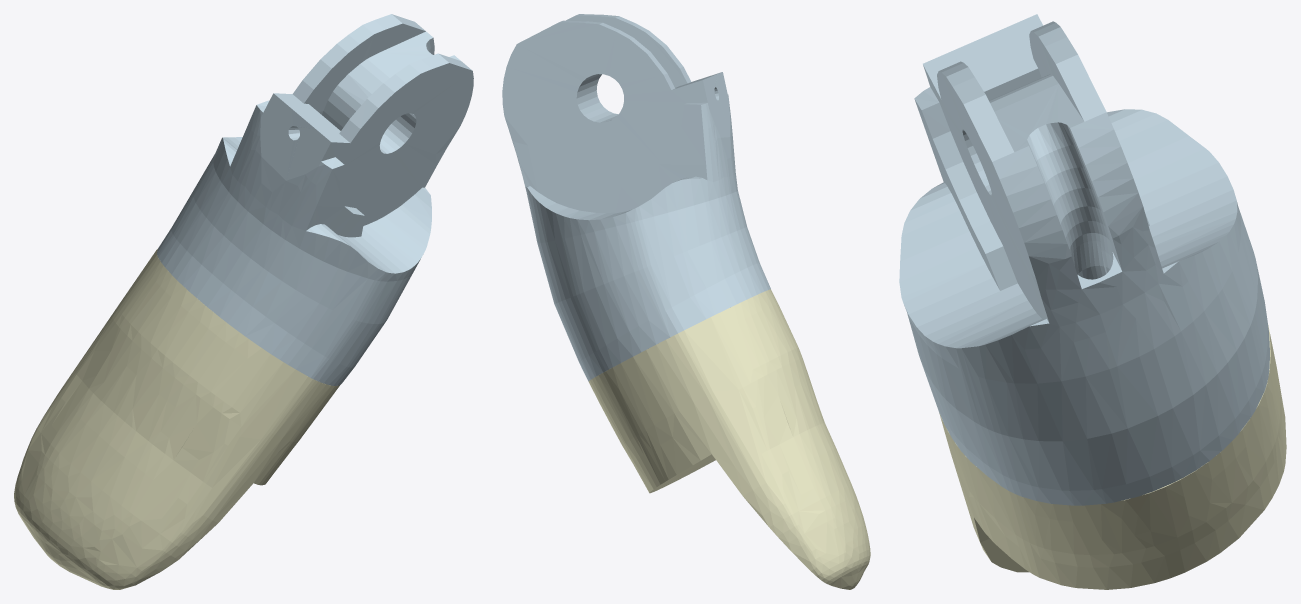
The model's file is i02_rightHand_ThumbTip_visual.obj.balanced.glb.
3 views of the same model, side by side, from view 1: azimuth 30°, elevation 25°; view 2: azimuth 150°, elevation 25°; view 3: azimuth 270°, elevation 25° (orthographic). The views are drawn at different scales.
Bounding box in the file's own units: 0.3346 × 0.4094 × 0.1975.
